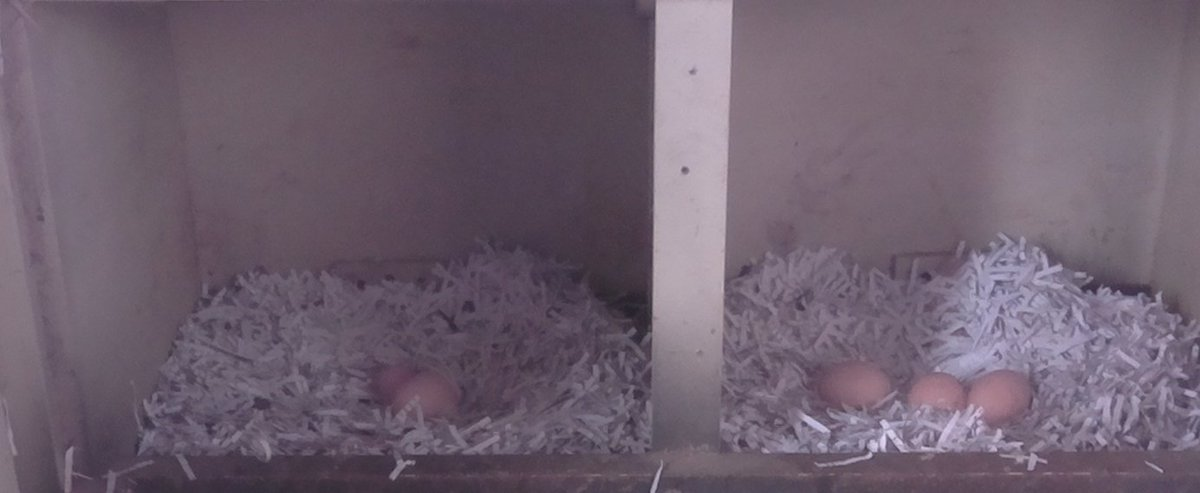egg: (818, 355, 898, 412), (389, 367, 462, 424), (963, 369, 1036, 420), (904, 370, 967, 423), (368, 361, 421, 407)
